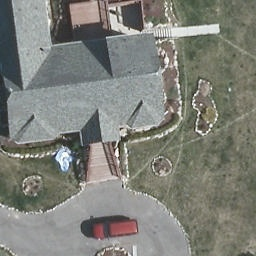car: (90, 219, 139, 240)
